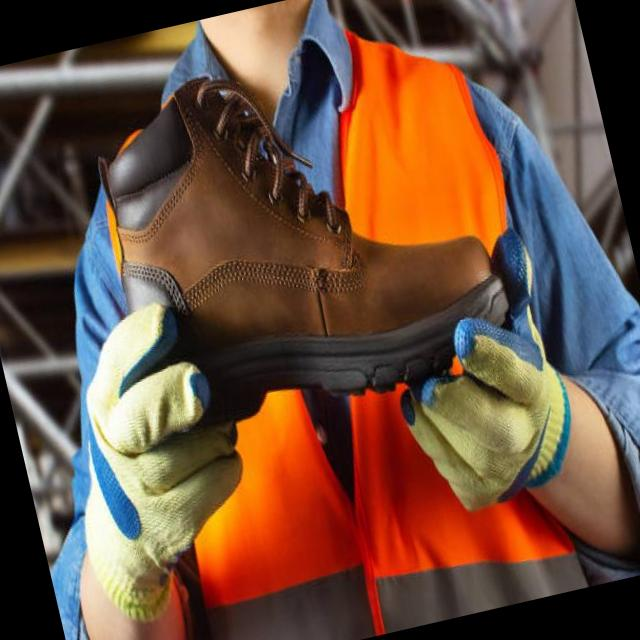Gloves: (26, 263, 282, 636), (363, 223, 598, 515)
Vest: (109, 23, 602, 640)
